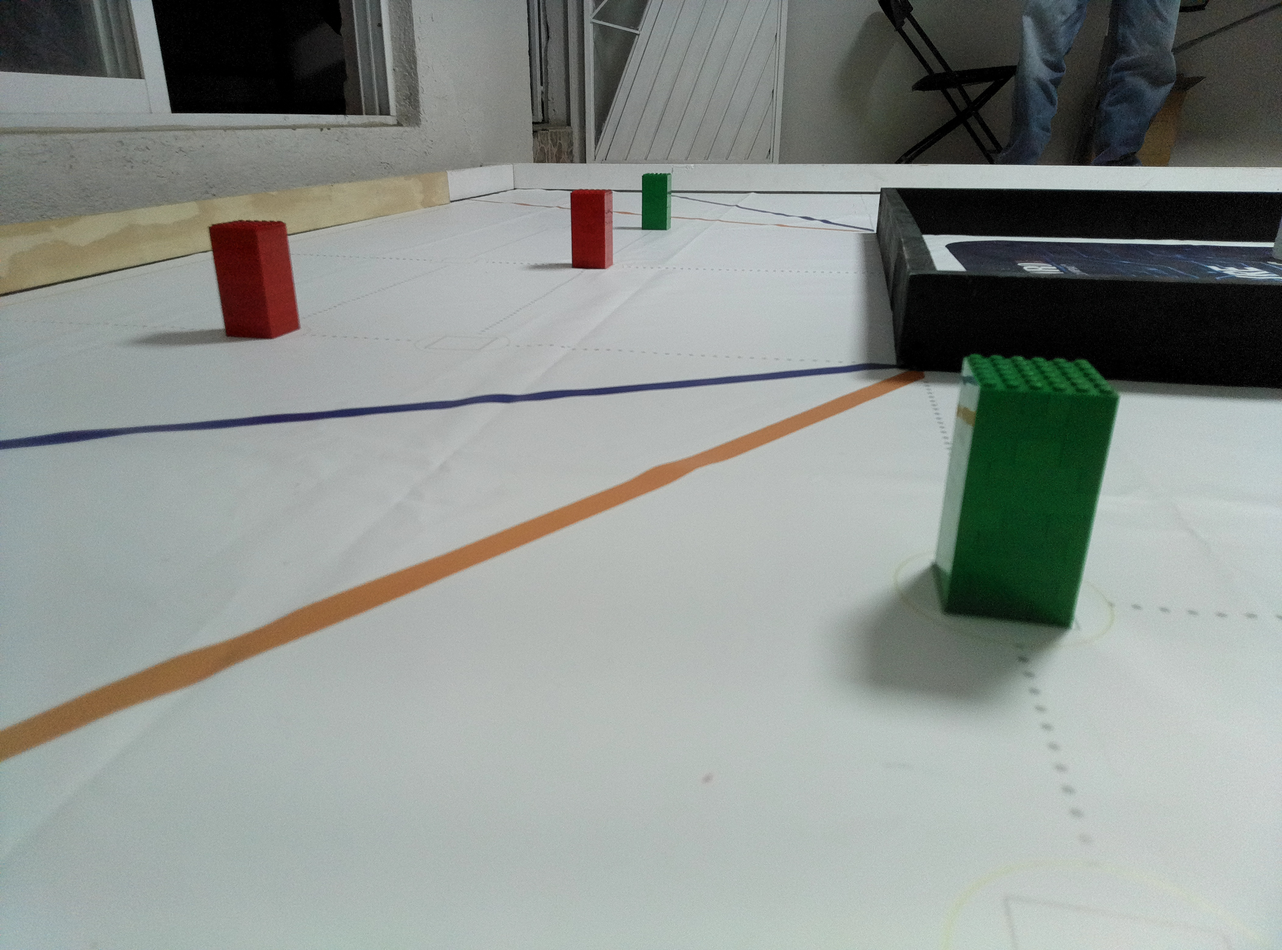greenbox: (929, 349, 1122, 644), (640, 172, 672, 231)
redbox: (204, 218, 303, 341), (568, 187, 615, 268)
